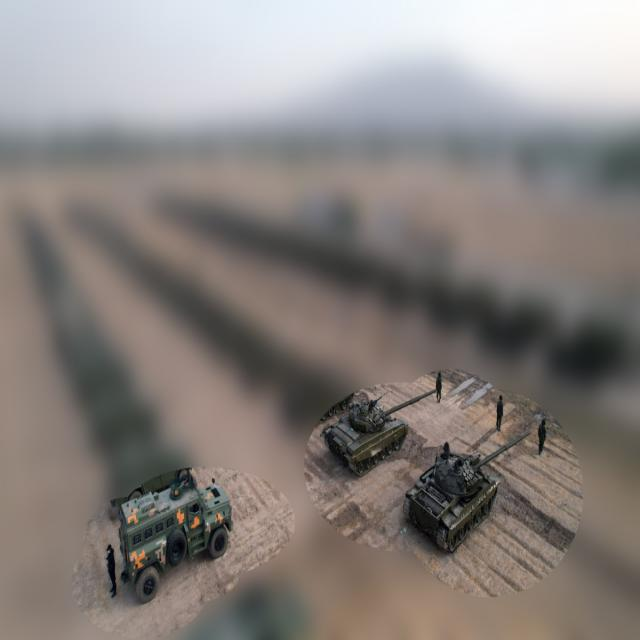tank: (404, 437, 533, 564), (323, 389, 432, 479)
